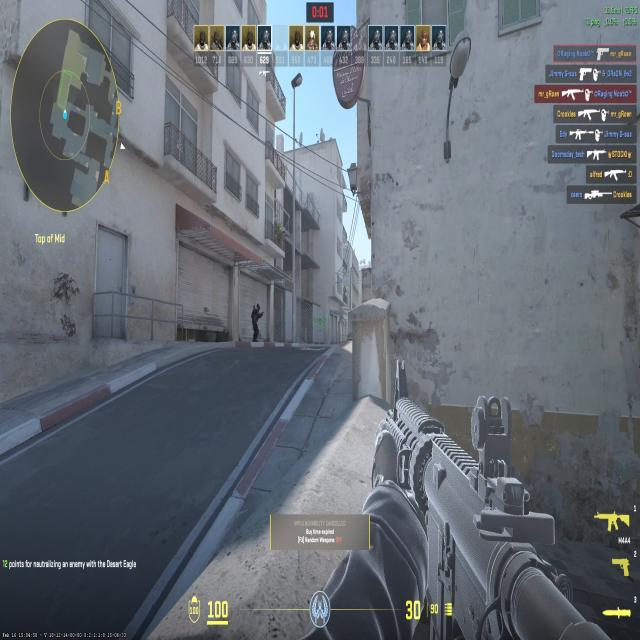player: (250, 298, 266, 349)
